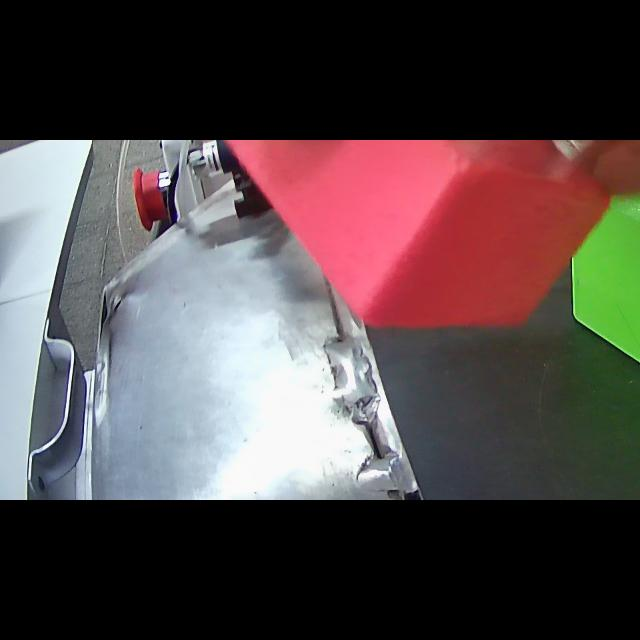greenBox: (566, 150, 640, 434)
redBox: (209, 140, 615, 340)
